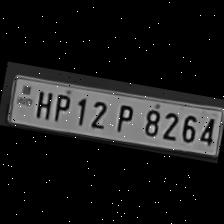1: (69, 92, 91, 126)
2: (84, 95, 111, 130), (158, 107, 180, 141)
4: (195, 112, 218, 146)
6: (176, 110, 199, 144)
8: (136, 103, 162, 138)
H: (30, 86, 55, 120)
P: (108, 98, 137, 134), (48, 88, 73, 124)
